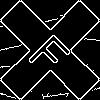F: (25, 25, 80, 79)
